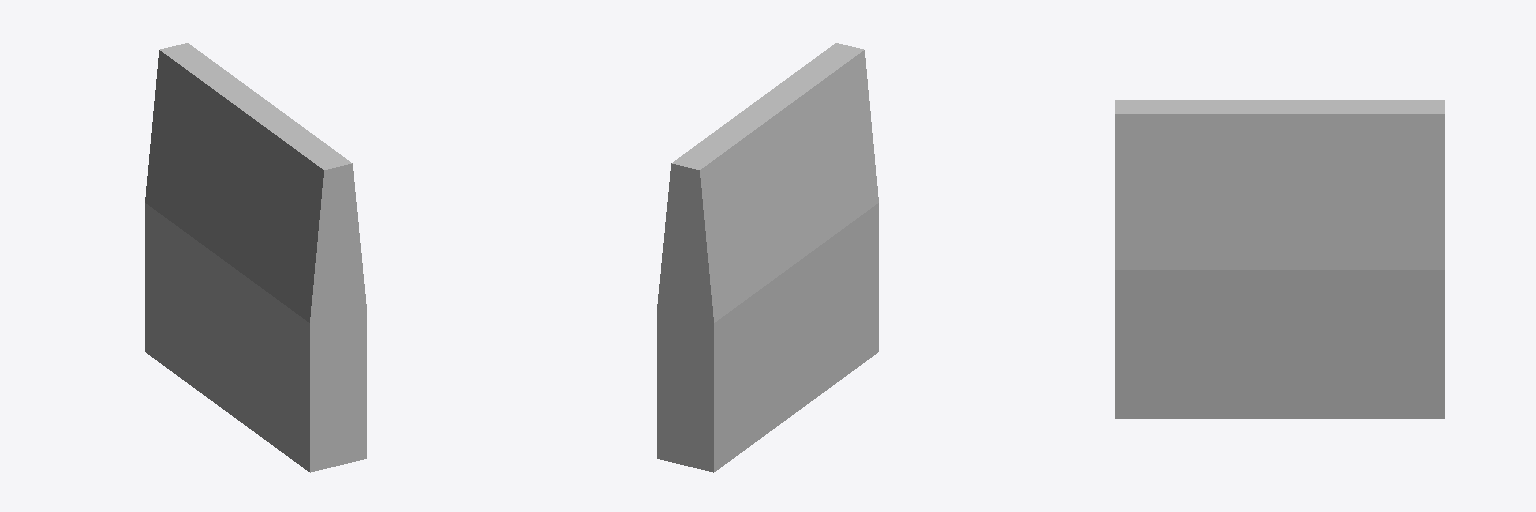
The model's file is Ограда 1.obj.
3 views of the same model, side by side, from view 1: azimuth 30°, elevation 25°; view 2: azimuth 150°, elevation 25°; view 3: azimuth 270°, elevation 25° (orthographic).
Visible parts, largest first — view 1: Cube; view 2: Cube; view 3: Cube.
Part boxes in pixels (bbox=[...]): Cube: bbox=[145, 43, 366, 472]; Cube: bbox=[657, 43, 878, 472]; Cube: bbox=[1115, 100, 1444, 418].
Size of the model in its own units: 0.4 by 2 by 2.